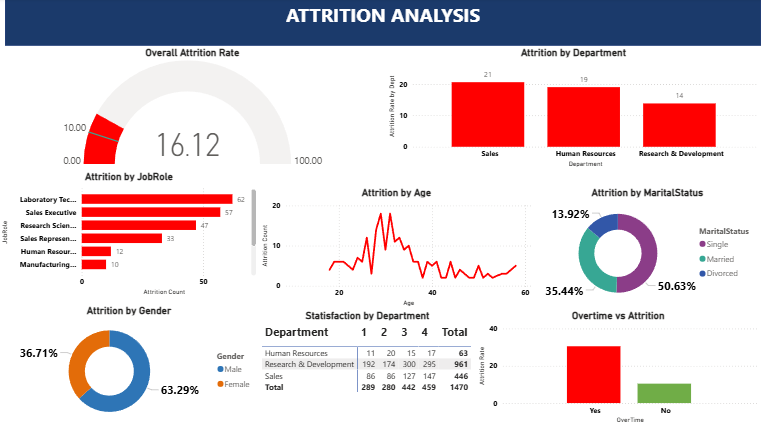

Layout of this report page (visuals, bound fields, positions):
{"tool":"powerbi","page":{"name":"Page 2","canvas":[1280,720],"ordinal":1},"visuals":[{"type":"shape","box":[0,0,1280,80],"z":0},{"type":"textbox","box":[0,1.7,1280,148.3],"z":1000},{"type":"gauge","title":"Overall Attrition Rate","fields":{"Y":["WA_Fn-UseC_-HR-Employee-Attrition.Attrition Rate"]},"box":[10.1,80.6,629.9,208.3],"z":2000},{"type":"clusteredColumnChart","title":"Attrition by Department","fields":{"Category":["WA_Fn-UseC_-HR-Employee-Attrition.Department"],"Y":["WA_Fn-UseC_-HR-Employee-Attrition.Attrition Rate by Dept"]},"box":[650,106.7,630,208.3],"z":3000},{"type":"clusteredBarChart","title":"Attrition by JobRole","fields":{"Category":["WA_Fn-UseC_-HR-Employee-Attrition.JobRole"],"Y":["WA_Fn-UseC_-HR-Employee-Attrition.Attrition Count"]},"box":[0,288.9,436.7,215],"z":4000},{"type":"lineChart","title":"Attrition by Age","fields":{"Category":["WA_Fn-UseC_-HR-Employee-Attrition.Age"],"Y":["WA_Fn-UseC_-HR-Employee-Attrition.Attrition Count"]},"box":[436.7,315.8,461.9,206.6],"z":5000},{"type":"donutChart","title":"Attrition by Gender","fields":{"Category":["WA_Fn-UseC_-HR-Employee-Attrition.Gender"],"Y":["WA_Fn-UseC_-HR-Employee-Attrition.Attrition Count"]},"box":[0,514,436.7,206.6],"z":6000},{"type":"pivotTable","title":"Statisfaction by Department","fields":{"Rows":["WA_Fn-UseC_-HR-Employee-Attrition.Department"],"Columns":["WA_Fn-UseC_-HR-Employee-Attrition.JobSatisfaction"],"Values":["CountNonNull(WA_Fn-UseC_-HR-Employee-Attrition.EmployeeNumber)"]},"box":[436.7,522.4,364.5,198.2],"z":7000},{"type":"clusteredColumnChart","title":"Overtime vs Attrition","fields":{"Category":["WA_Fn-UseC_-HR-Employee-Attrition.OverTime"],"Y":["WA_Fn-UseC_-HR-Employee-Attrition.Attrition Rate"]},"box":[802,523,478,197],"z":8000},{"type":"donutChart","title":"Attrition by MaritalStatus","fields":{"Category":["WA_Fn-UseC_-HR-Employee-Attrition.MaritalStatus"],"Y":["WA_Fn-UseC_-HR-Employee-Attrition.Attrition Count"]},"box":[899,316,381,207],"z":9000},{"type":"actionButton","title":"Overview","box":[0,1.7,165,80],"z":10000},{"type":"actionButton","title":"Attrition","box":[165,0,140,80],"z":11000},{"type":"actionButton","title":"Salary","box":[906.7,0,163.3,80],"z":12000},{"type":"actionButton","title":"Details","box":[1070,0,210,80],"z":13000}]}

Visuals, with their boxes in screenshot pixels (x1, y1, x2, y2), scaled from the page's 1280x720 canvas onto the 761x427 screenshot:
shape: crop(0, 0, 760, 47)
textbox: crop(0, 1, 760, 89)
"Overall Attrition Rate" gauge: crop(6, 48, 380, 171)
"Attrition by Department" clusteredColumnChart: crop(386, 63, 760, 187)
"Attrition by JobRole" clusteredBarChart: crop(0, 171, 260, 299)
"Attrition by Age" lineChart: crop(260, 187, 534, 310)
"Attrition by Gender" donutChart: crop(0, 305, 260, 426)
"Statisfaction by Department" pivotTable: crop(260, 310, 476, 426)
"Overtime vs Attrition" clusteredColumnChart: crop(477, 310, 760, 426)
"Attrition by MaritalStatus" donutChart: crop(534, 187, 760, 310)
"Overview" actionButton: crop(0, 1, 98, 48)
"Attrition" actionButton: crop(98, 0, 181, 47)
"Salary" actionButton: crop(539, 0, 636, 47)
"Details" actionButton: crop(636, 0, 760, 47)
